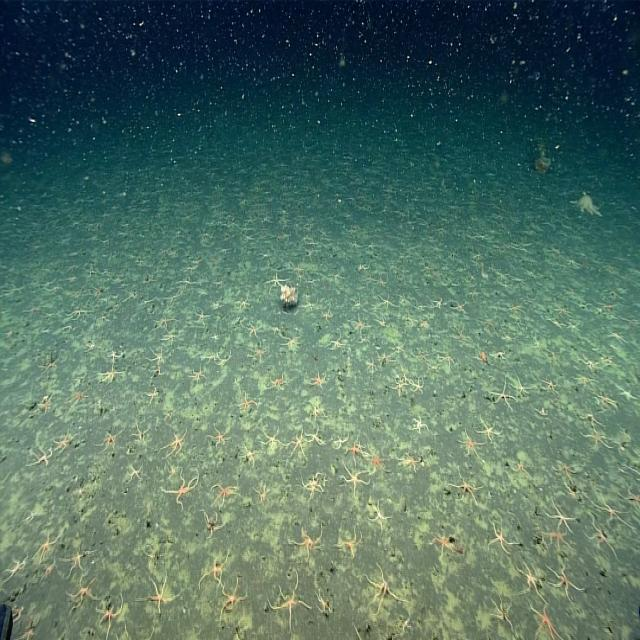brittle-stars: (270, 577, 308, 615), (368, 566, 400, 610), (216, 576, 246, 618), (162, 470, 198, 504), (528, 604, 562, 640), (143, 576, 175, 614), (450, 469, 483, 505), (291, 523, 322, 559), (548, 562, 578, 598), (200, 553, 229, 589), (517, 562, 544, 600), (488, 516, 514, 555), (587, 515, 614, 552), (597, 496, 628, 526), (98, 596, 123, 633), (341, 462, 369, 494), (70, 576, 99, 606), (548, 502, 576, 532), (583, 423, 613, 449), (32, 533, 58, 563), (211, 481, 239, 508), (428, 526, 454, 554), (490, 597, 512, 630), (458, 430, 482, 460), (490, 380, 514, 409), (337, 529, 361, 558), (66, 546, 90, 575), (552, 456, 577, 482), (164, 430, 188, 457), (369, 502, 390, 532), (478, 416, 502, 442), (31, 444, 54, 469), (546, 526, 569, 550), (287, 431, 306, 460), (54, 429, 76, 454), (369, 449, 389, 476), (202, 510, 222, 537), (235, 390, 258, 413), (208, 424, 230, 448), (397, 449, 419, 473), (304, 473, 326, 497), (346, 437, 364, 465), (100, 429, 120, 454), (263, 428, 284, 451), (100, 363, 123, 384), (240, 442, 260, 466), (512, 454, 532, 478), (307, 426, 326, 449), (349, 313, 369, 334), (269, 372, 289, 393), (280, 334, 301, 354), (104, 370, 125, 390), (411, 413, 430, 435), (252, 482, 270, 505), (332, 432, 352, 452), (190, 362, 208, 384), (397, 612, 413, 636), (132, 421, 150, 442), (575, 371, 596, 389), (148, 347, 167, 366), (70, 386, 90, 404), (440, 349, 458, 369), (128, 460, 144, 482), (249, 343, 267, 362), (539, 376, 557, 395), (310, 370, 327, 390), (515, 377, 531, 398), (144, 385, 161, 404), (269, 272, 285, 292), (391, 377, 407, 397), (412, 375, 426, 397), (245, 320, 262, 338), (158, 313, 176, 330), (194, 308, 210, 327), (379, 291, 395, 310), (507, 301, 525, 317), (328, 336, 344, 353), (107, 346, 123, 363), (83, 338, 99, 354), (162, 330, 178, 346), (364, 355, 376, 375), (431, 295, 445, 312), (178, 275, 195, 289), (321, 305, 334, 323), (370, 361, 382, 380), (290, 263, 304, 278)
